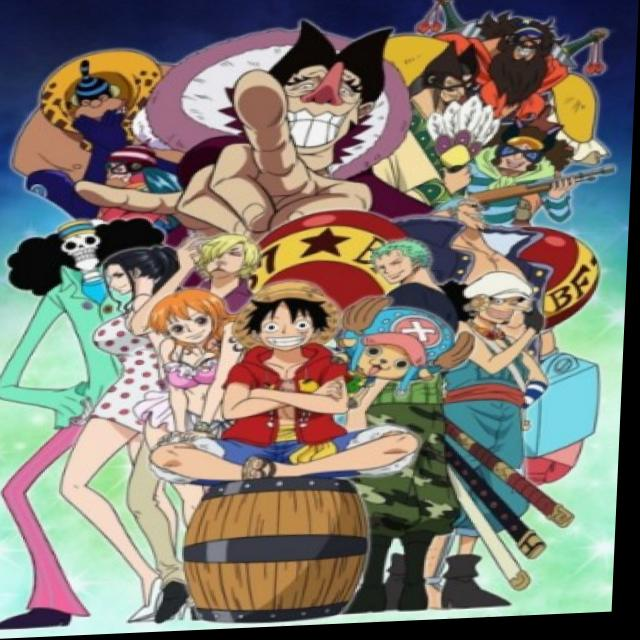Blook: (28, 204, 173, 276)
Chyopa: (330, 301, 487, 393)
Franky: (430, 194, 506, 242)
Luffy: (227, 280, 348, 366)
Nami: (140, 283, 243, 359)
NicoRobin: (89, 240, 187, 311)
Sangdi: (167, 227, 282, 290)
Usopp: (448, 269, 569, 338)
Zoro: (361, 240, 456, 297)
